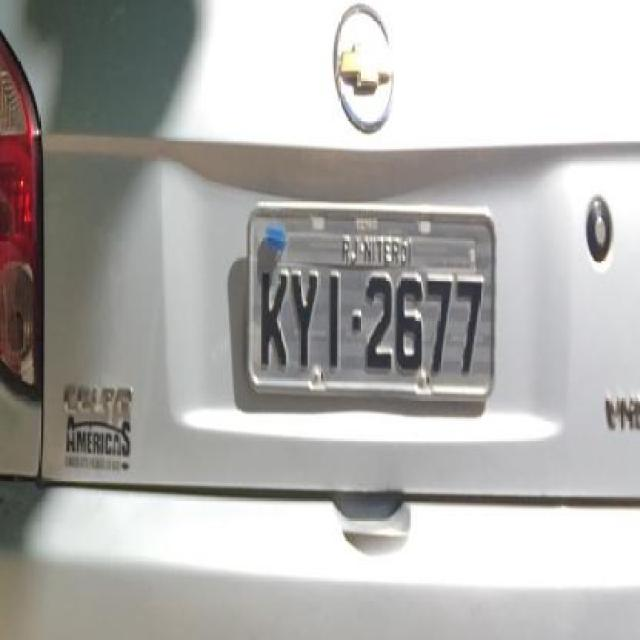old_plate: (236, 192, 507, 412)
